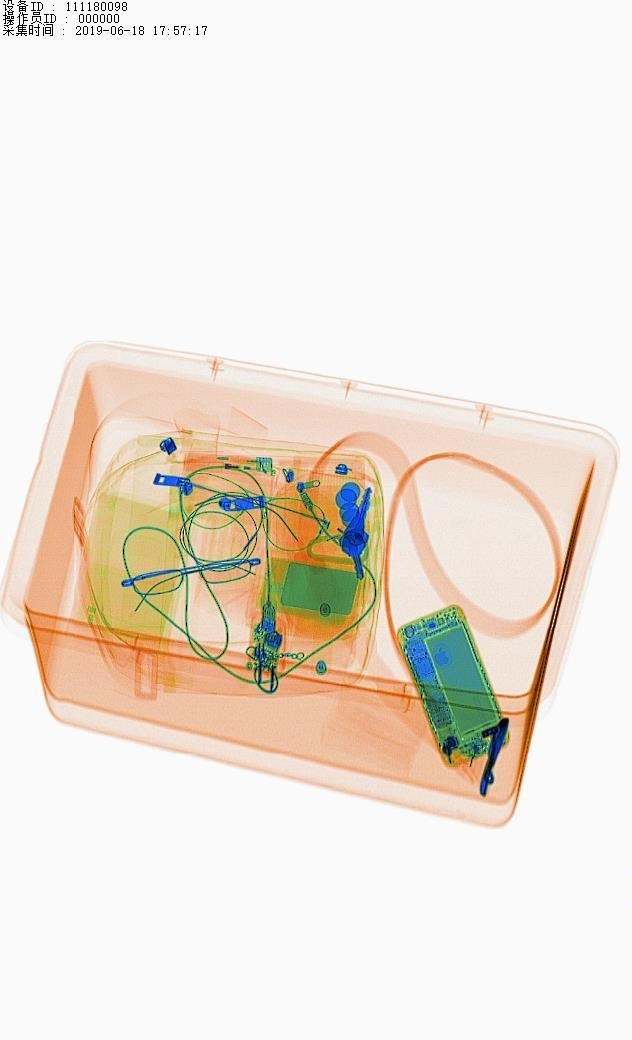NonmetallicFire: (174, 442, 295, 484)
